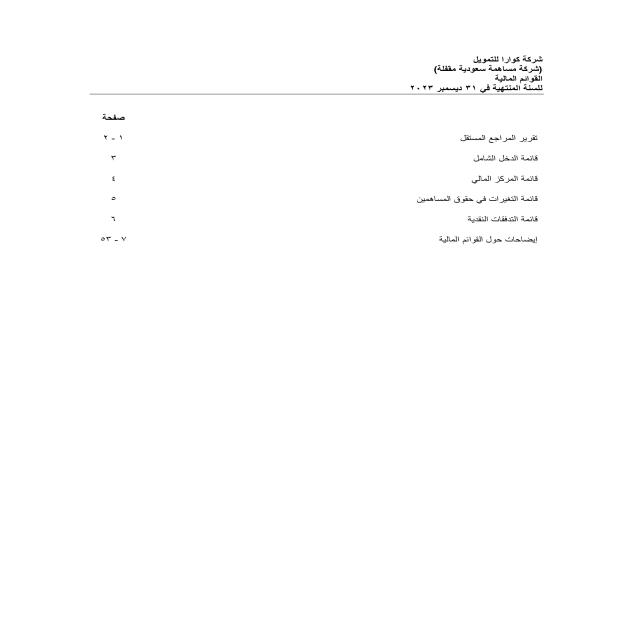other: (87, 108, 549, 261)
